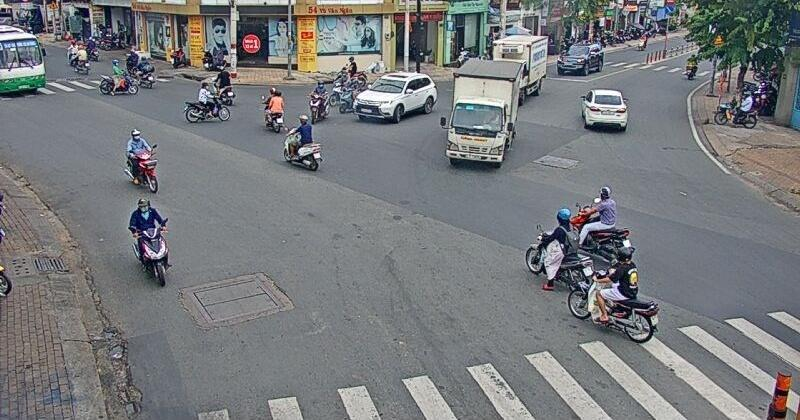xe hoi: (353, 72, 436, 122), (582, 88, 628, 128)
xe may: (566, 247, 659, 343), (525, 208, 593, 287), (570, 186, 631, 255), (127, 197, 168, 287), (124, 128, 158, 194), (282, 114, 321, 171), (183, 81, 230, 123), (97, 58, 138, 95), (262, 86, 284, 133), (308, 80, 329, 124)
xe tai: (444, 58, 521, 164)
